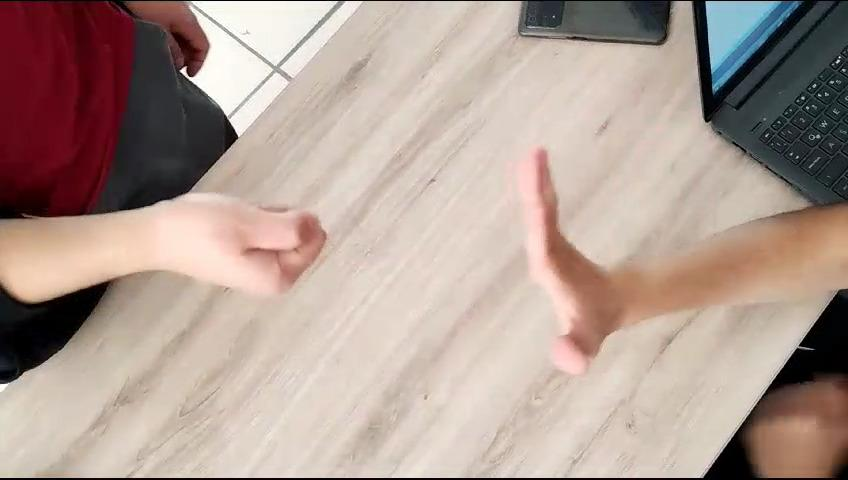Paper: (454, 139, 685, 425)
Stone: (90, 144, 386, 340)
